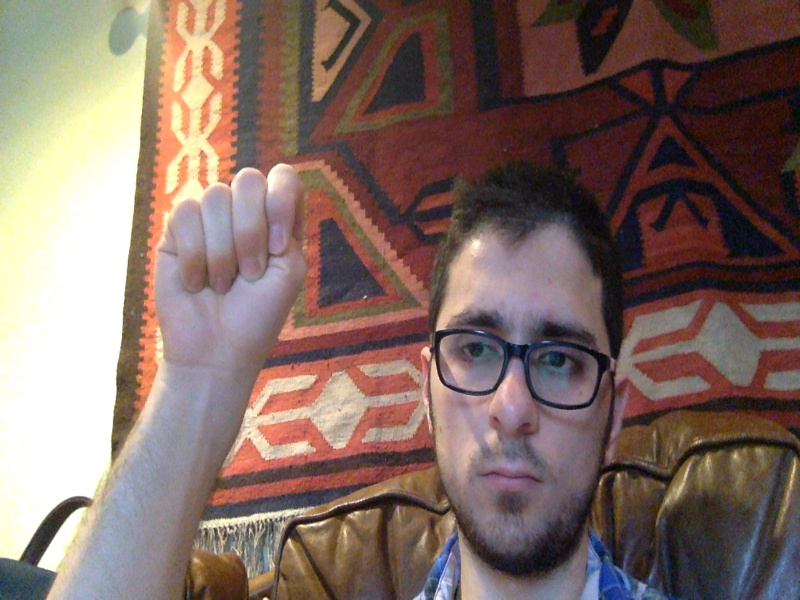0-hand: (155, 163, 308, 369)
